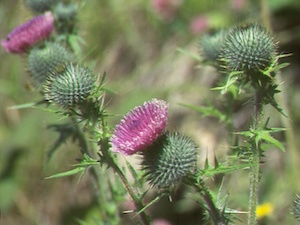thistle: (110, 98, 206, 190), (3, 13, 73, 85)
